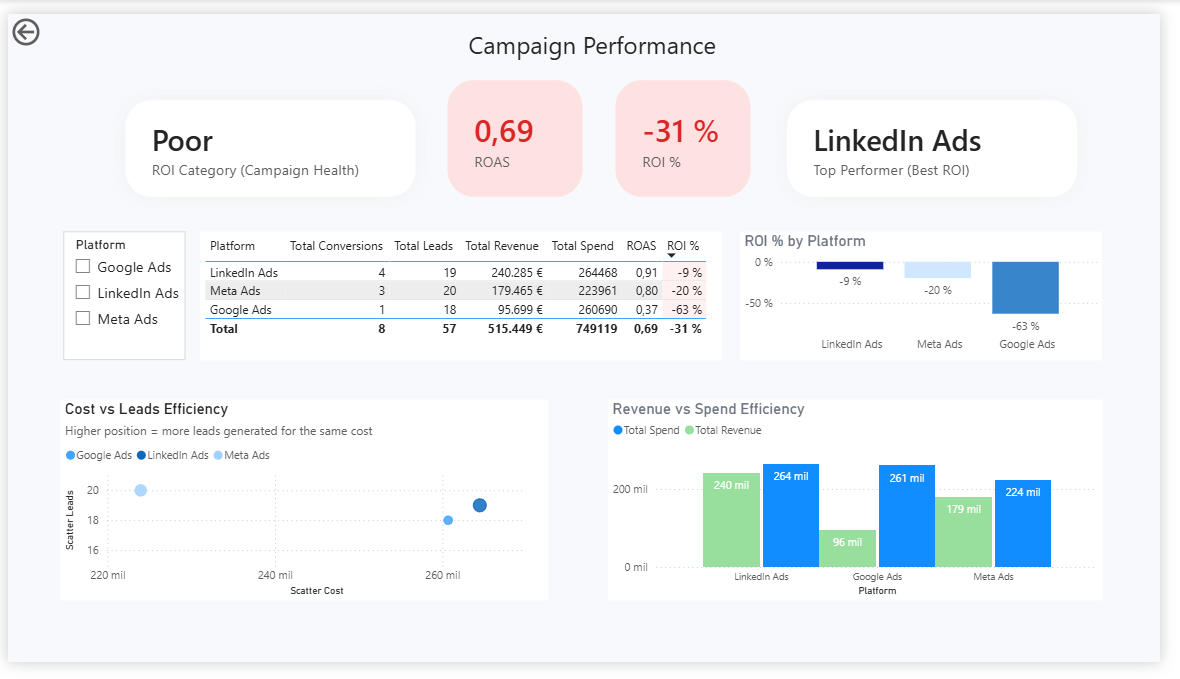

The dashboard page shown, as its layout file describes it:
{"tool":"powerbi","page":{"name":"CAMPAIGN PERFORMANCE","canvas":[1280,720],"ordinal":1},"visuals":[{"type":"textbox","box":[289.1,10,721.8,67.3],"z":0},{"type":"cardVisual","fields":{"Data":["campaigns.Top Campaign"]},"box":[865,95,323.3,108.3],"z":1000},{"type":"cardVisual","fields":{"Data":["campaigns.ROAS"]},"box":[488.7,73.3,150,130],"z":2000},{"type":"cardVisual","fields":{"Data":["campaigns.ROI %"]},"box":[675.8,73.6,150,130],"z":3000},{"type":"tableEx","fields":{"Values":["campaigns.Platform","campaigns.Total Conversions","campaigns.Total Leads","campaigns.Total Revenue","campaigns.Total Spend","campaigns.ROAS","campaigns.ROI %"]},"box":[213,241,580,143],"z":4000},{"type":"scatterChart","title":"Cost vs Leads Efficiency","fields":{"X":["campaigns.Scatter Cost"],"Y":["campaigns.Scatter Leads"],"Size":["campaigns.Total Revenue"],"Series":["campaigns.Platform"]},"box":[59,429,542,223],"z":5000},{"type":"columnChart","title":"ROI % by Platform","fields":{"Y":["campaigns.ROI %"],"Category":["campaigns.Platform"]},"box":[814,241,402,143],"z":6000},{"type":"clusteredColumnChart","title":"Revenue vs Spend Efficiency","fields":{"Y":["campaigns.Total Spend","campaigns.Total Revenue"],"Category":["campaigns.Platform"]},"box":[667,429,549,223],"z":7000},{"type":"actionButton","box":[0,0,100,40],"z":8000},{"type":"slicer","fields":{"Values":["campaigns.Platform"]},"box":[61.4,241.2,135.7,142.8],"z":9000},{"type":"cardVisual","fields":{"Data":["campaigns.ROI Category"]},"box":[130,95,323.3,108.3],"z":11000}]}

Visuals, with their boxes in screenshot pixels (x1, y1, x2, y2), scaled from the page's 1280x720 canvas onto the 1180x679 screenshot:
textbox: box=[267, 9, 932, 73]
cardVisual - campaigns.Top Campaign: box=[797, 90, 1095, 192]
cardVisual - campaigns.ROAS: box=[451, 69, 589, 192]
cardVisual - campaigns.ROI %: box=[623, 69, 761, 192]
tableEx - campaigns.Platform x campaigns.Total Conversions: box=[196, 227, 731, 362]
"Cost vs Leads Efficiency" scatterChart: box=[54, 405, 554, 615]
"ROI % by Platform" columnChart: box=[750, 227, 1121, 362]
"Revenue vs Spend Efficiency" clusteredColumnChart: box=[615, 405, 1121, 615]
actionButton: box=[0, 0, 92, 38]
slicer - campaigns.Platform: box=[57, 227, 182, 362]
cardVisual - campaigns.ROI Category: box=[120, 90, 418, 192]
